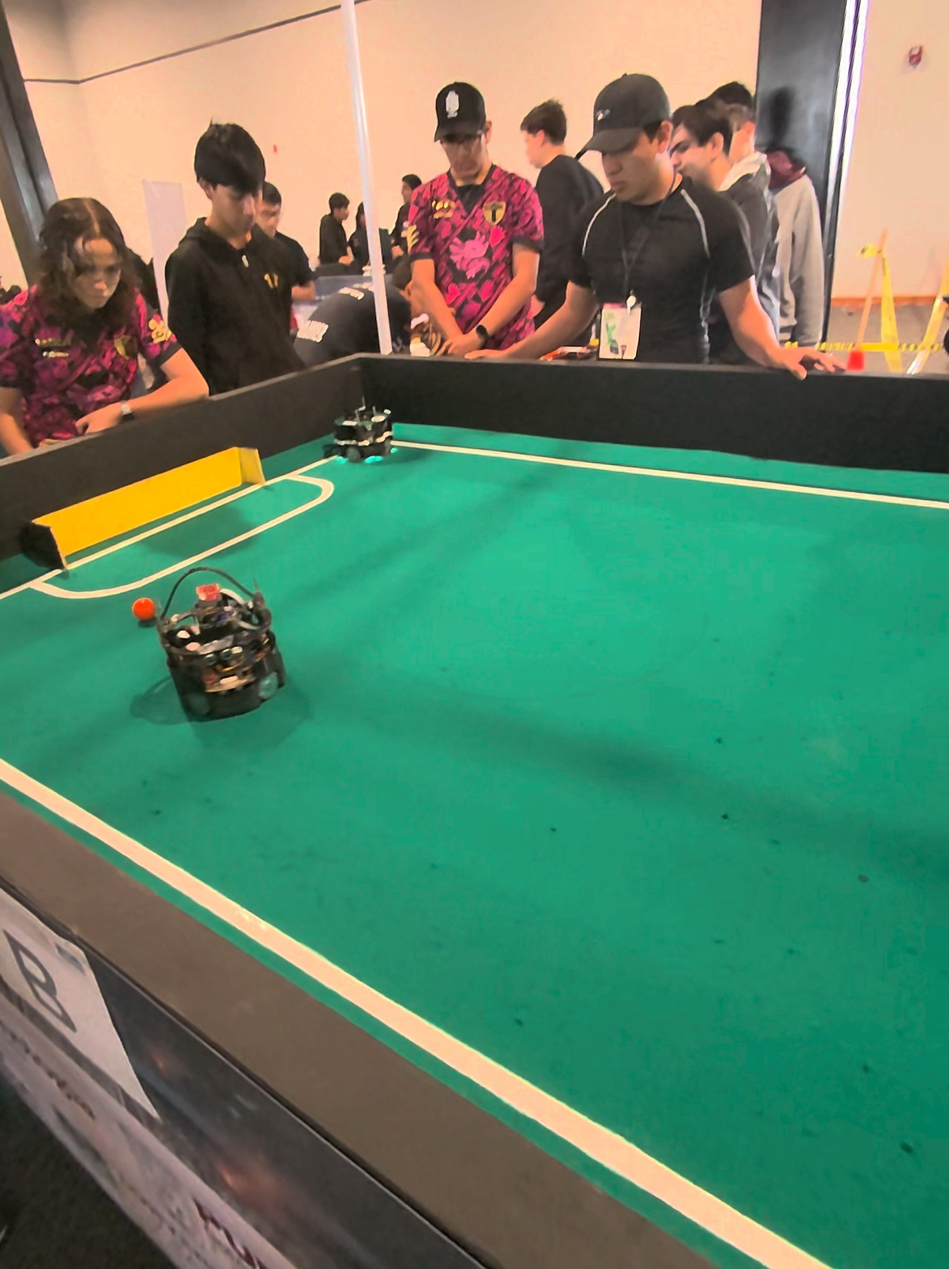Robot: (149, 562, 293, 726), (323, 364, 398, 465)
pelota: (130, 597, 151, 617)
